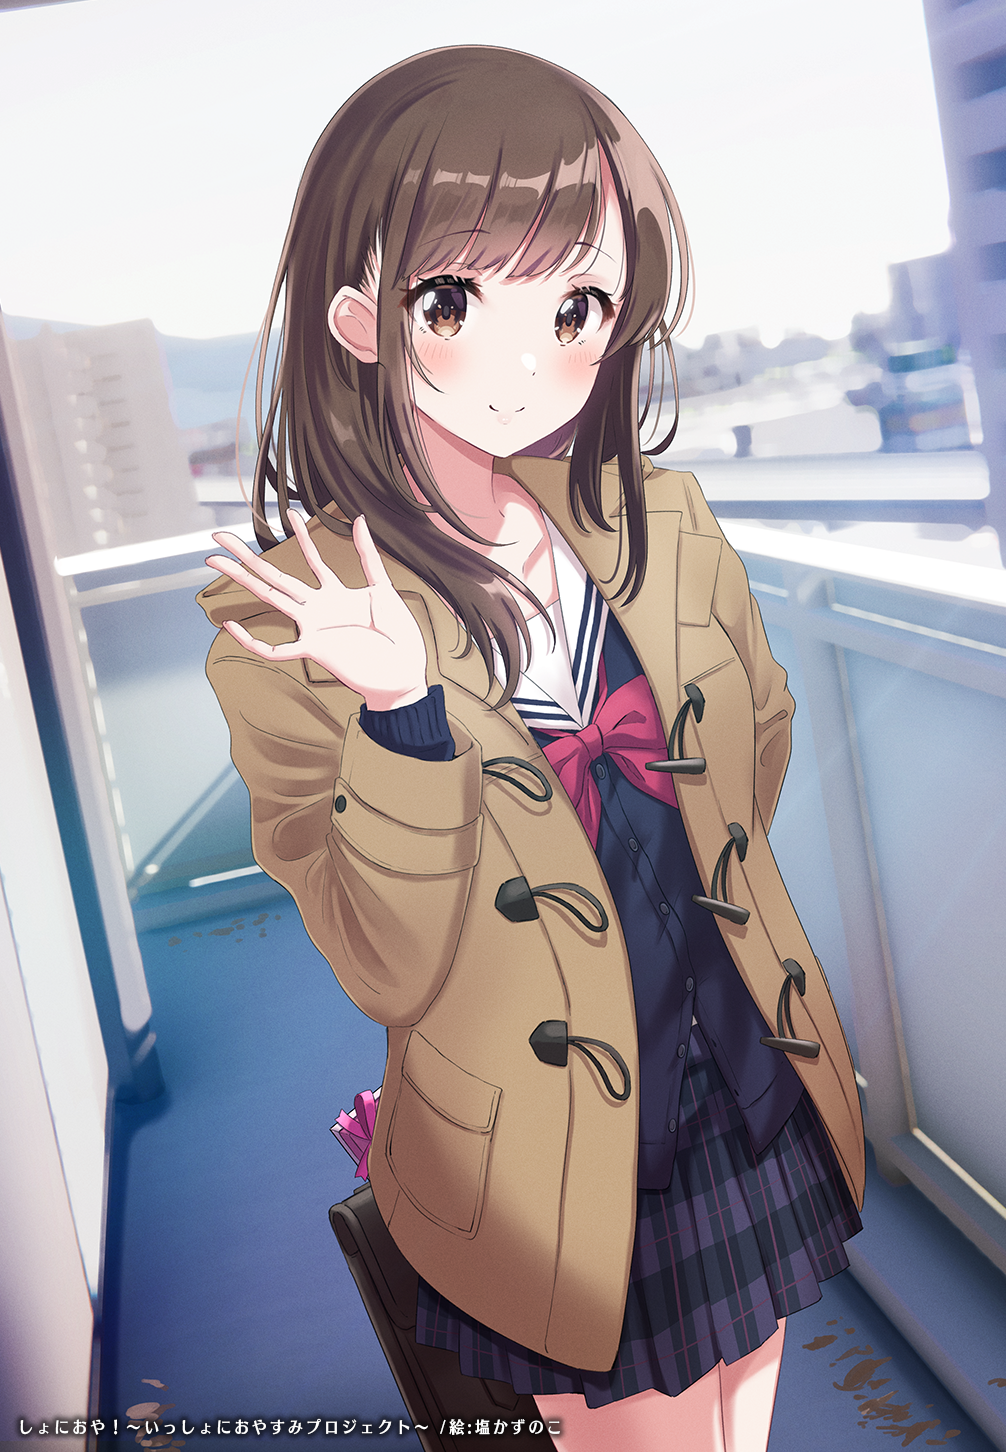纸片人正脸: (262, 38, 694, 497)
